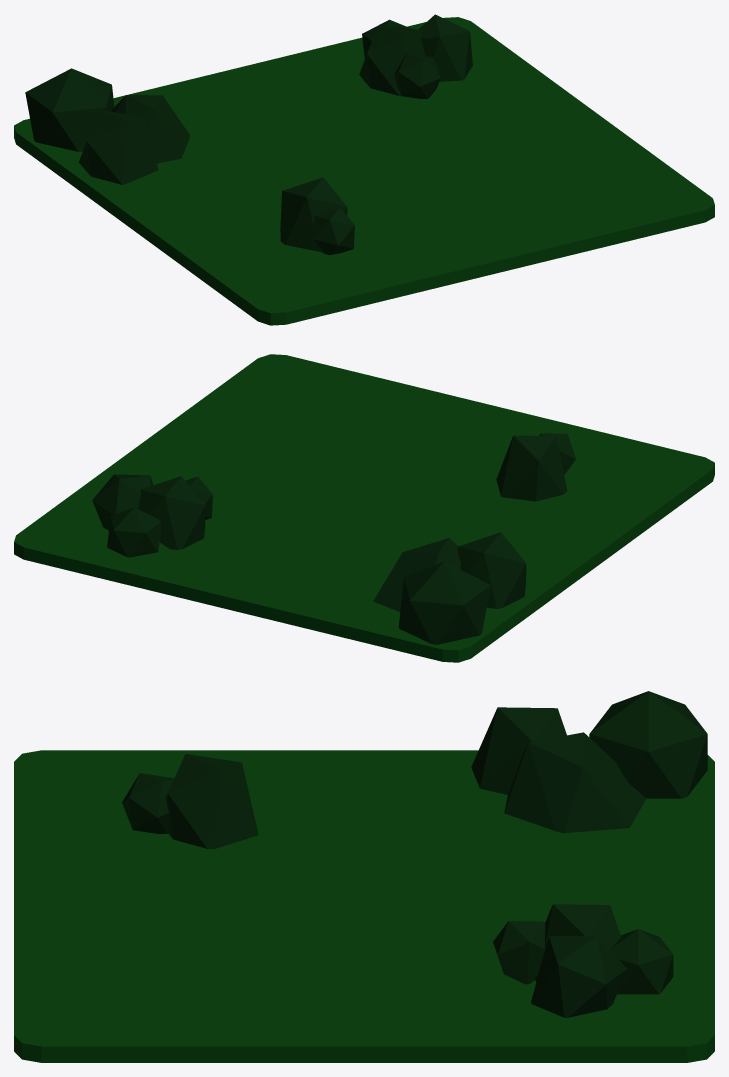
The model's file is garden1.obj.
The picture shows the model from 3 angles, top to bottom: view 1: azimuth 30°, elevation 25°; view 2: azimuth 150°, elevation 25°; view 3: azimuth 270°, elevation 25°; orthographic projection. The views are drawn at different scales.
Visible parts, largest first — view 1: garden1; view 2: garden1; view 3: garden1.
Boxes of the visible parts, x1=… form: garden1: x1=14, y1=14, x2=714, y2=325; garden1: x1=14, y1=354, x2=714, y2=662; garden1: x1=14, y1=691, x2=714, y2=1062.
Size of the model in its own units: 12.72 by 2.05 by 12.72.
